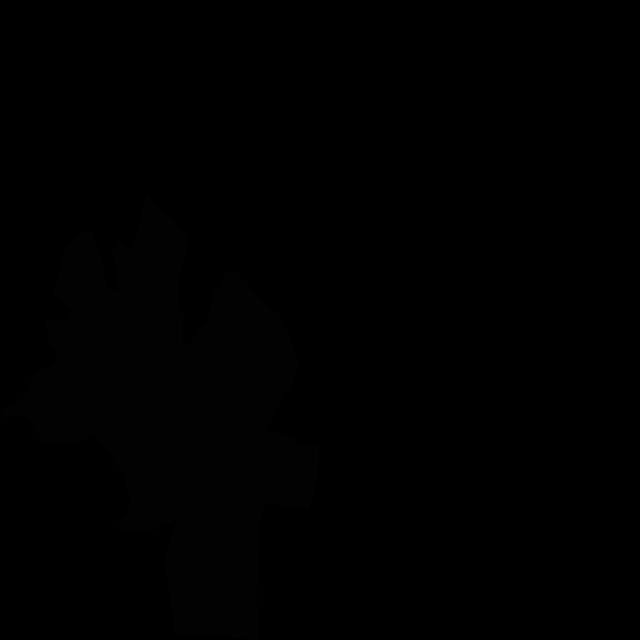cardboard: (0, 193, 319, 640)
